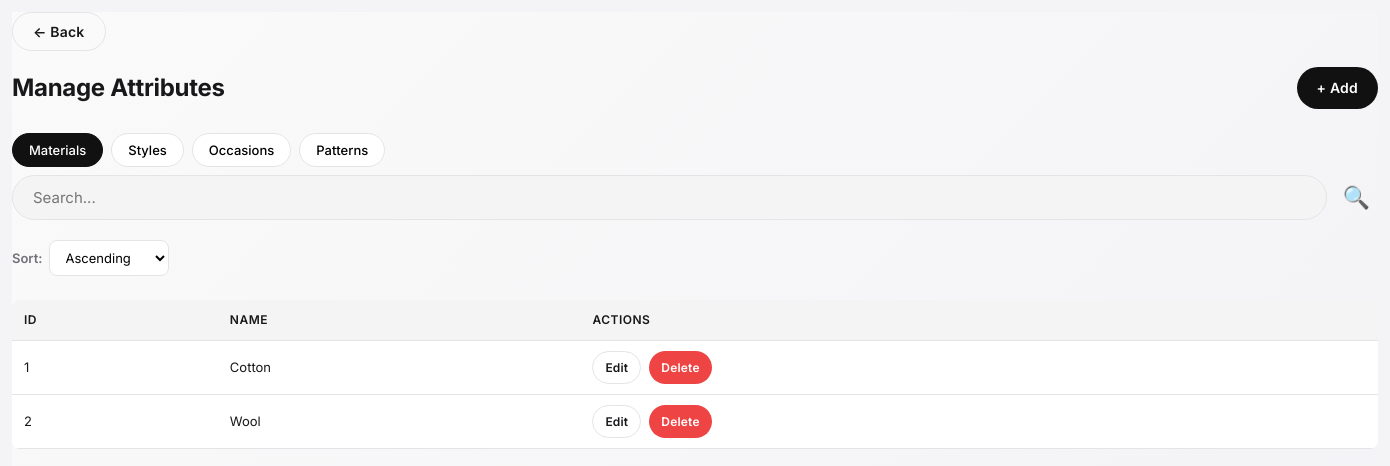
Test: AdminAttributes › Tabs › should switch to styles tab
The width and height of the screenshot is (1390, 466).
Click the button "Styles" at (148, 150), box top-left (111, 133), bottom-right (184, 167)
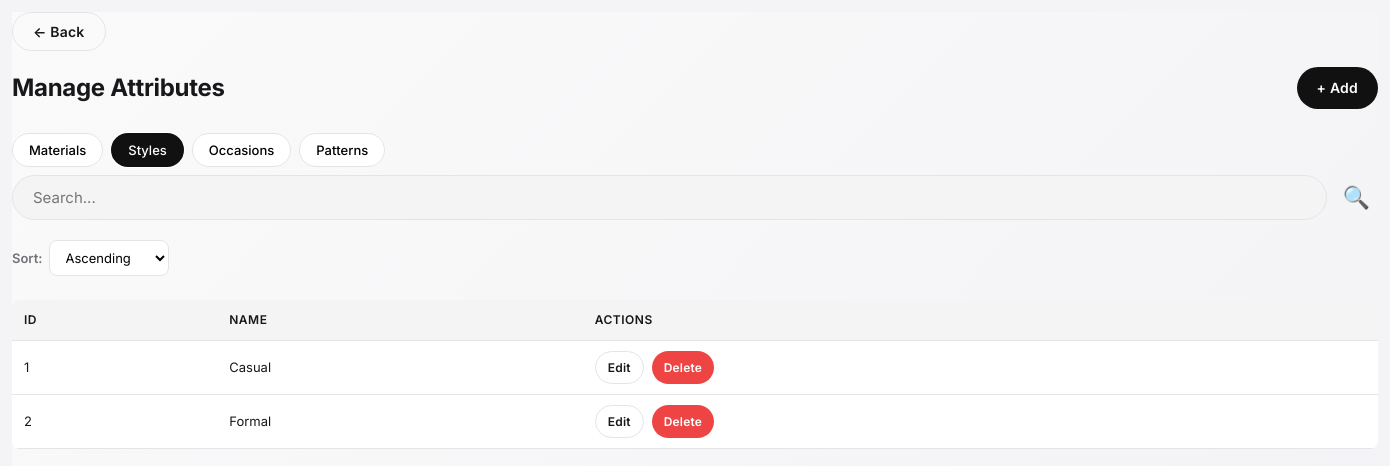
Expected: the link "Casual" is shown, top-left (229, 359), bottom-right (271, 375)
Expected: the link "Formal" is shown, top-left (229, 413), bottom-right (271, 429)
